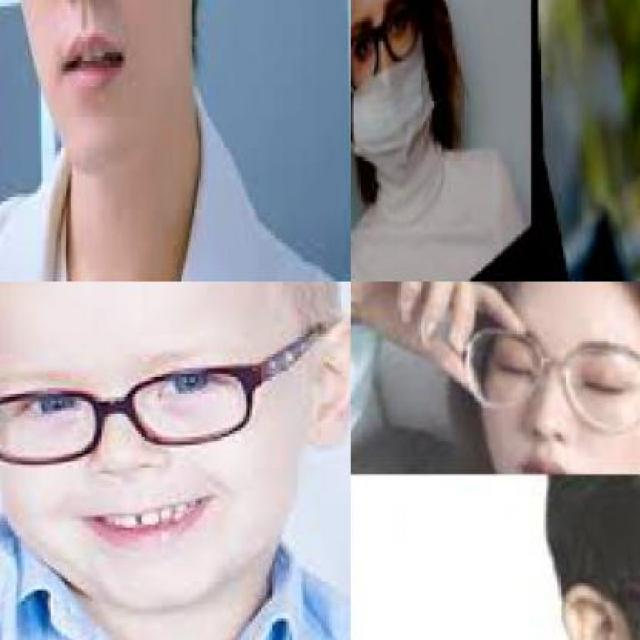glasses: (0, 362, 282, 458), (451, 318, 638, 436), (350, 0, 429, 112)
